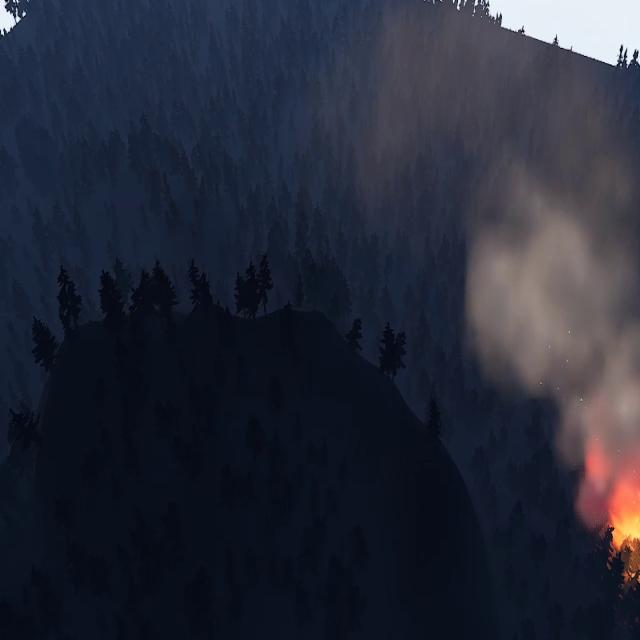fire: (589, 432, 640, 553)
smoke: (342, 0, 640, 570)
